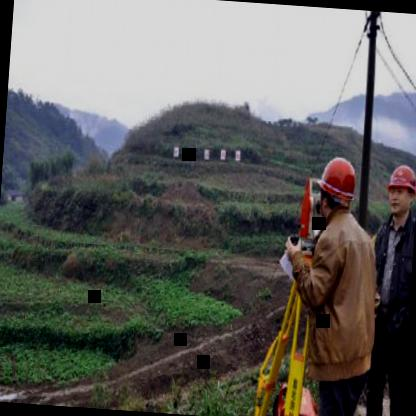helmet: (312, 150, 362, 230), (382, 158, 416, 224)
